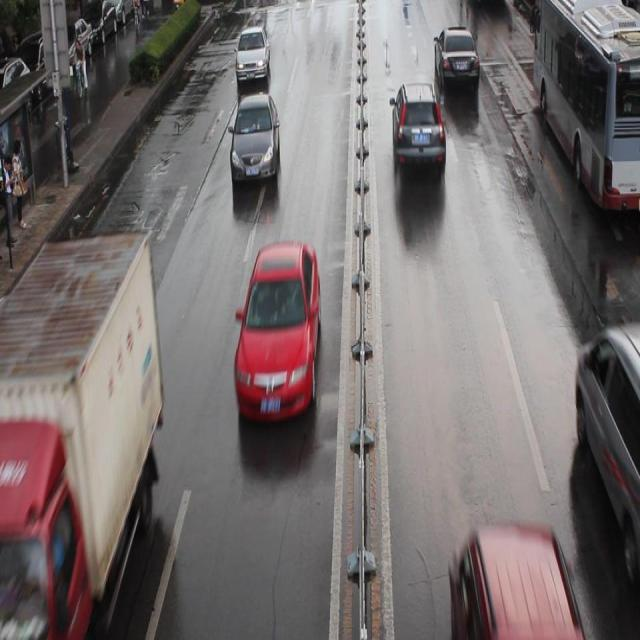bus: (0, 228, 164, 640)
car: (233, 239, 321, 427), (448, 520, 582, 640), (1, 297, 67, 453), (391, 81, 446, 171), (229, 94, 281, 183), (432, 27, 479, 89), (235, 26, 270, 88)
truck: (574, 319, 640, 585)
van: (532, 2, 640, 214)
